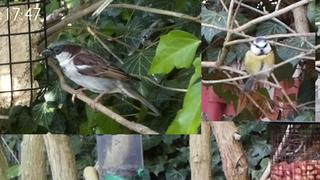blue tit: (241, 38, 275, 92)
sparrow: (40, 40, 161, 115)
